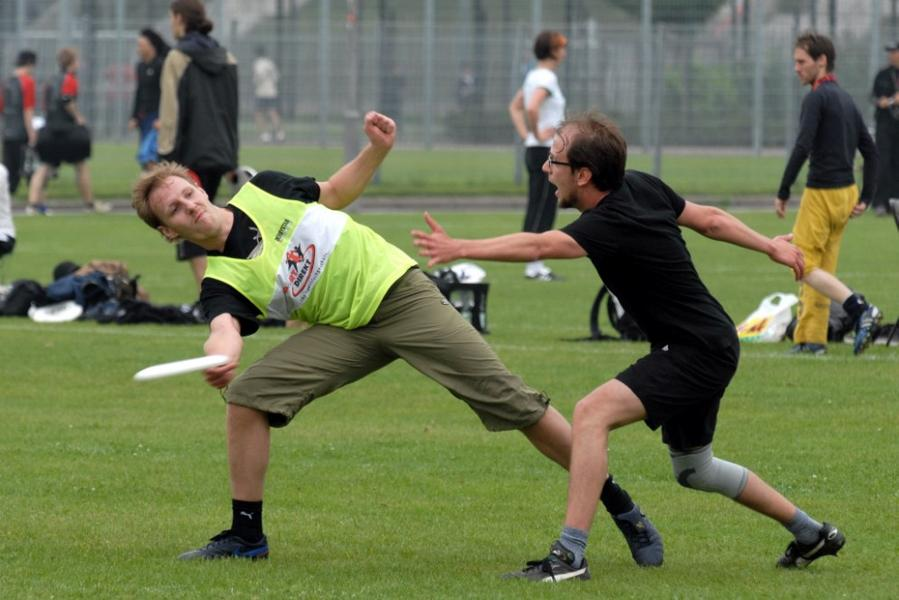person: (130, 110, 668, 570)
